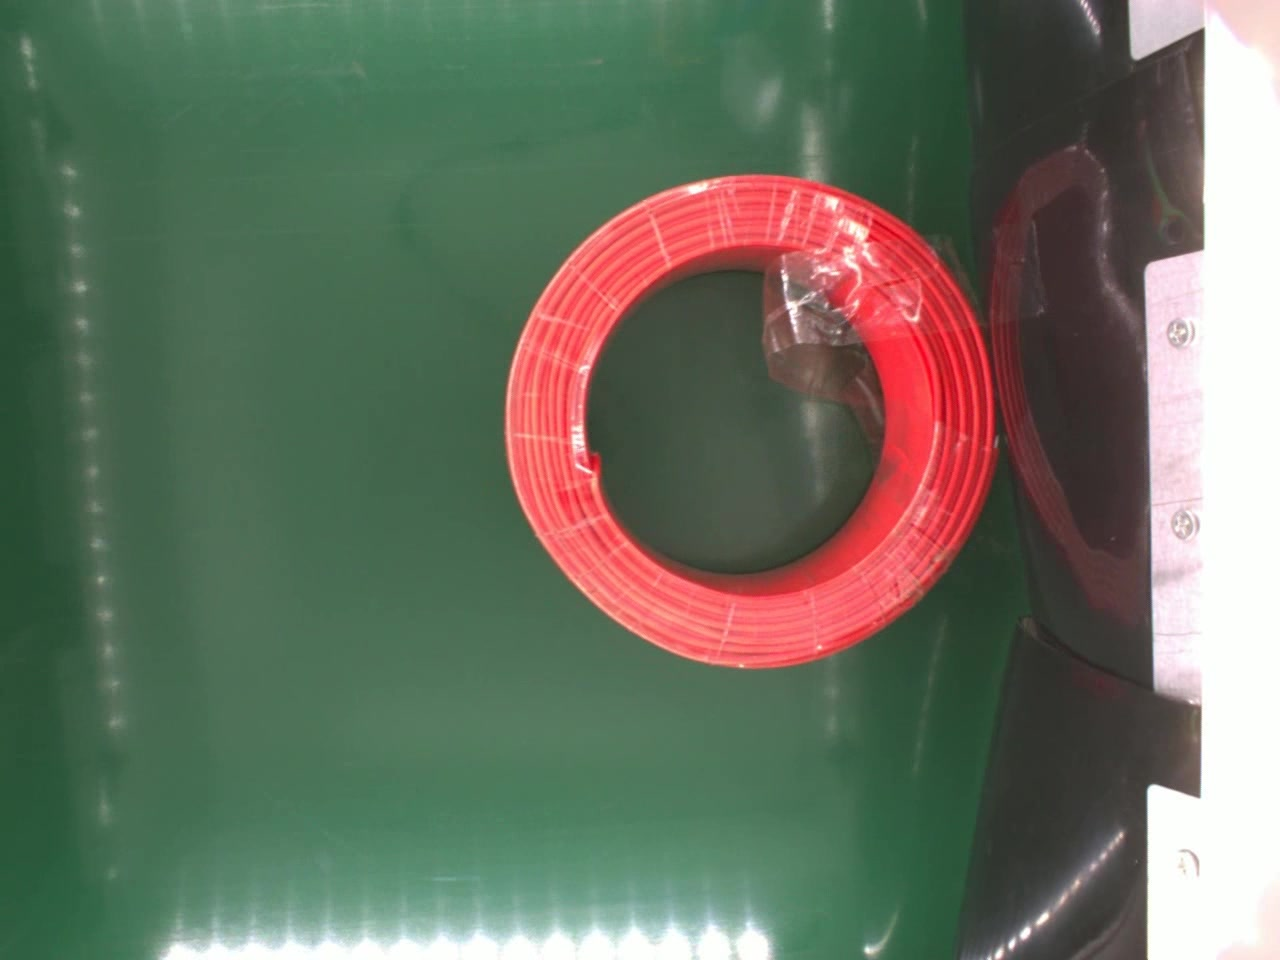red: (495, 170, 1005, 682)
